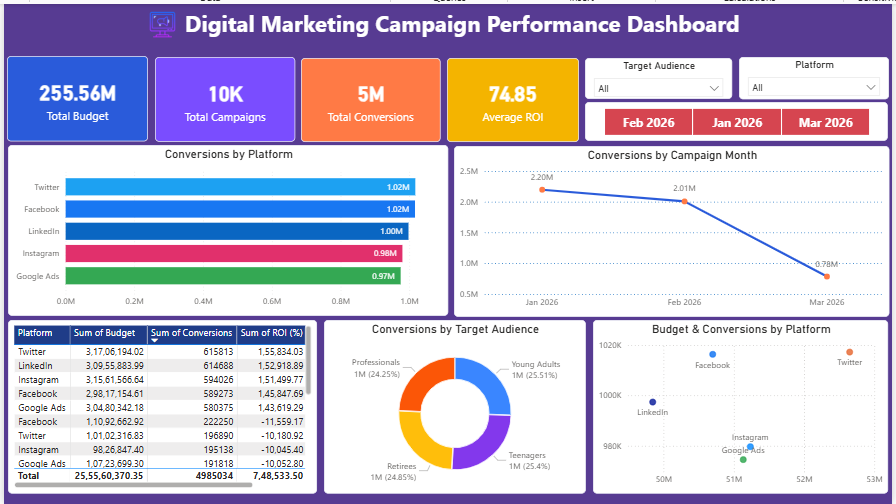

Layout of this report page (visuals, bound fields, positions):
{"tool":"powerbi","page":{"name":"Page 1","canvas":[1280,720],"ordinal":0},"visuals":[{"type":"card","fields":{"Values":["Main_Data.Total Campaigns"]},"box":[217.5,75.7,202.3,122.5],"z":0},{"type":"lineChart","title":" Conversions by Campaign Month","fields":{"Category":["Main_Data.Campaign Month"],"Y":["Main_Data.Total Conversions"]},"box":[648,204.2,627.1,246.1],"z":1000},{"type":"barChart","title":"Conversions by Platform","fields":{"Category":["Main_Data.Platform"],"Y":["Main_Data.Total Conversions"]},"box":[5.5,203.7,634.5,246.4],"z":2000},{"type":"donutChart","title":"Conversions by Target Audience","fields":{"Category":["Main_Data.Target Audience"],"Y":["Main_Data.Total Conversions"]},"box":[460.8,455.6,377,250],"z":3000},{"type":"scatterChart","title":"Budget & Conversions by Platform","fields":{"X":["Sum(Main_Data.Budget)"],"Y":["Sum(Main_Data.Conversions)"],"Series":["Main_Data.Platform"]},"box":[847.8,455.6,425.3,250.5],"z":4000},{"type":"tableEx","fields":{"Values":["Main_Data.Platform","Sum(Main_Data.Budget)","Sum(Main_Data.Conversions)","Sum(Main_Data.ROI (%))","Main_Data.ROI Category"]},"box":[5.5,455.6,444.6,250.5],"z":5000},{"type":"card","fields":{"Values":["Main_Data.Total Budget"]},"box":[5,75.6,203.3,122.6],"z":6000},{"type":"card","fields":{"Values":["Main_Data.Average ROI"]},"box":[638.3,77.3,189.8,120.9],"z":7000},{"type":"card","fields":{"Values":["Main_Data.Total Conversions"]},"box":[428,77.1,200.9,121.1],"z":8000},{"type":"slicer","title":"Platform","fields":{"Values":["Main_Data.Platform"]},"box":[1058.4,75.7,216.1,60.6],"z":9000},{"type":"slicer","title":"Target Audience","fields":{"Values":["Main_Data.Target Audience"]},"box":[836.8,77.1,212,59.2],"z":10000},{"type":"slicer","fields":{"Values":["Main_Data.Campaign Month"]},"box":[836.8,141.8,436.3,56.4],"z":11000},{"type":"textbox","box":[234,0,831.3,59.2],"z":12000},{"type":"image","box":[198.2,6.9,59.2,45.4],"z":13000}]}

Visuals, with their boxes in screenshot pixels (x1, y1, x2, y2), scaled from the page's 1280x720 canvas onto the 896x504 screenshot:
card - Main_Data.Total Campaigns: 152 53 294 139
" Conversions by Campaign Month" lineChart: 454 143 893 315
"Conversions by Platform" barChart: 4 143 448 315
"Conversions by Target Audience" donutChart: 323 319 586 494
"Budget & Conversions by Platform" scatterChart: 593 319 891 494
tableEx - Main_Data.Platform x Sum(Main_Data.Budget): 4 319 315 494
card - Main_Data.Total Budget: 4 53 146 139
card - Main_Data.Average ROI: 447 54 580 139
card - Main_Data.Total Conversions: 300 54 440 139
"Platform" slicer: 741 53 892 95
"Target Audience" slicer: 586 54 734 95
slicer - Main_Data.Campaign Month: 586 99 891 139
textbox: 164 0 746 41
image: 139 5 180 37
